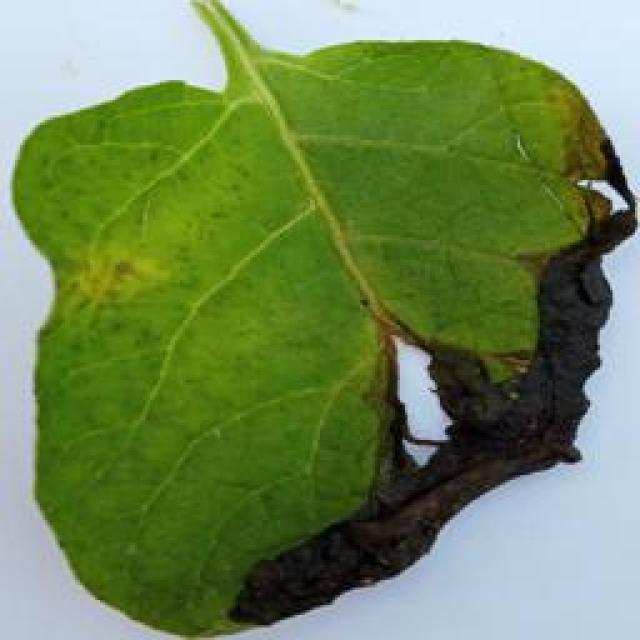Potato_Late_Blight: (16, 7, 624, 634)
